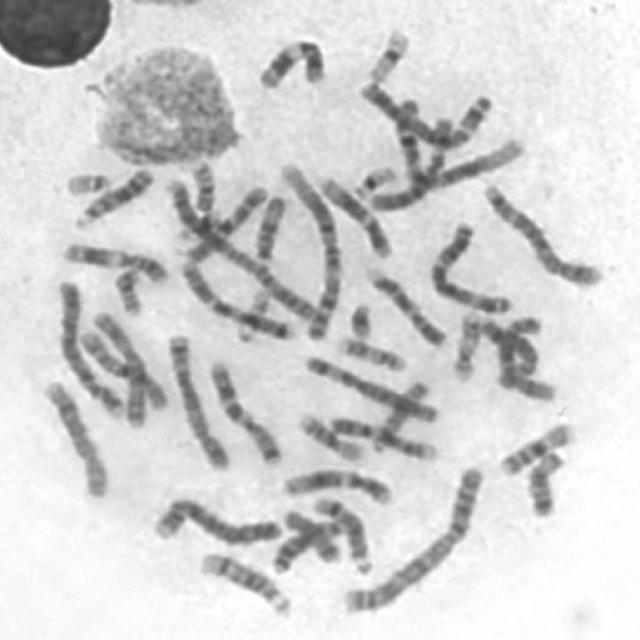A1: (272, 154, 344, 343), (389, 101, 525, 193)
A2: (158, 168, 319, 330), (334, 457, 488, 616)
A3: (351, 71, 494, 151), (422, 213, 515, 314)
B4: (50, 270, 129, 421), (146, 490, 284, 548)
B5: (475, 176, 605, 289), (159, 326, 232, 472)
C10: (75, 318, 170, 416), (174, 177, 271, 265)
C11: (54, 233, 171, 286), (251, 30, 328, 92)
C12: (309, 168, 396, 260), (273, 460, 396, 508)
C6: (295, 346, 441, 424), (358, 109, 455, 214)
C7: (173, 252, 298, 342), (200, 352, 286, 468)
C8: (35, 372, 113, 500), (490, 308, 556, 402)
C9: (358, 259, 451, 350), (322, 408, 439, 462)
D13: (66, 159, 156, 230), (264, 511, 347, 575)
D14: (192, 544, 294, 620), (304, 487, 376, 576)
D15: (362, 372, 432, 453), (246, 186, 290, 264)
E16: (491, 414, 577, 478), (289, 404, 366, 464)
E17: (328, 327, 410, 372), (444, 302, 484, 383)
E18: (273, 504, 344, 569), (518, 444, 568, 520)
F19: (360, 19, 412, 83), (346, 158, 400, 200)
F20: (179, 152, 218, 213), (106, 260, 146, 317)
G21: (179, 208, 227, 242), (342, 294, 374, 340)
G22: (229, 280, 274, 344), (56, 163, 114, 196)
